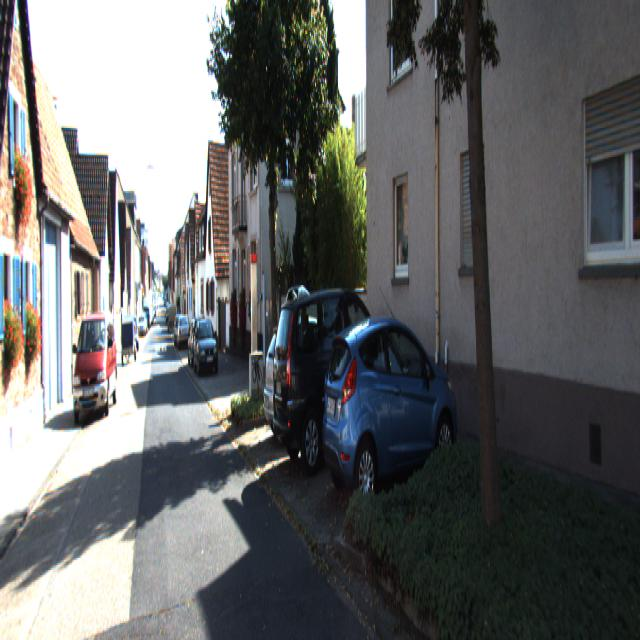Car: (318, 316, 463, 519), (270, 285, 408, 481), (261, 319, 365, 449), (70, 314, 119, 423), (192, 316, 219, 374)
